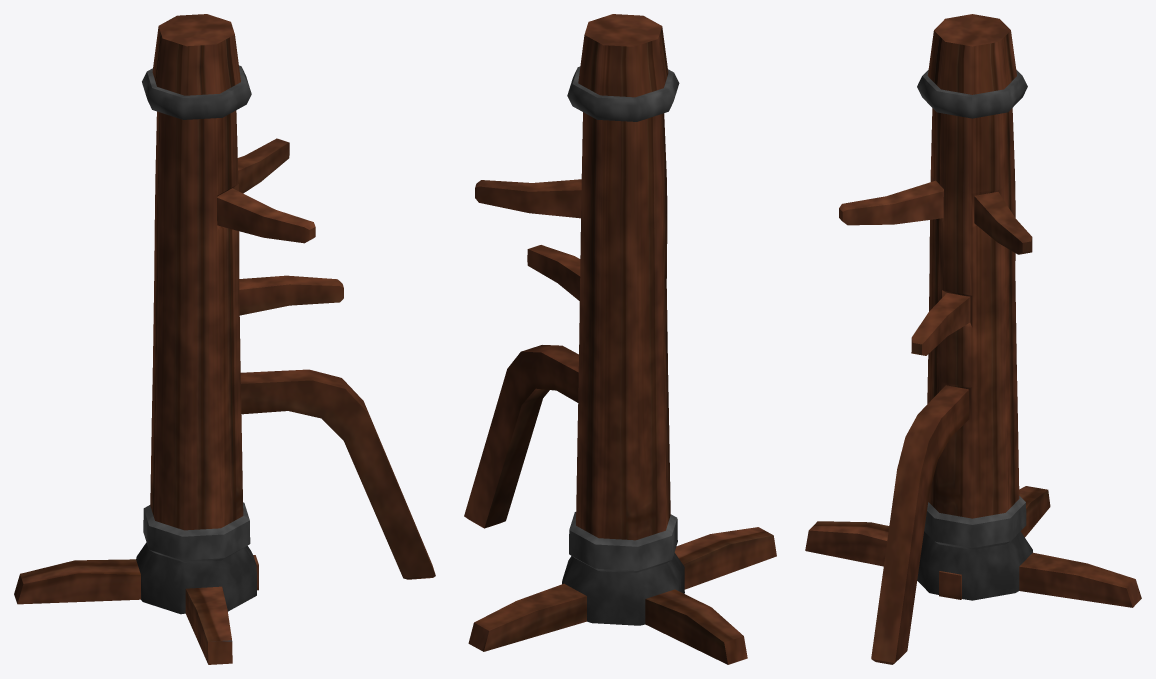
File: Dummy Martial Training_2.fbx
The picture shows the model from 3 angles, left to right: view 1: azimuth 30°, elevation 25°; view 2: azimuth 150°, elevation 25°; view 3: azimuth 270°, elevation 25°; orthographic projection. The views are drawn at different scales.
Visible parts, largest first — view 1: Cube; view 2: Cube; view 3: Cube.
Boxes of the visible parts, x1,y1,x2,y2 form: Cube: (14, 14, 435, 664); Cube: (464, 14, 776, 664); Cube: (805, 14, 1141, 664).
Size of the model in its own units: 255 by 393 by 220.
Materials: 1 (1 with a texture image).
